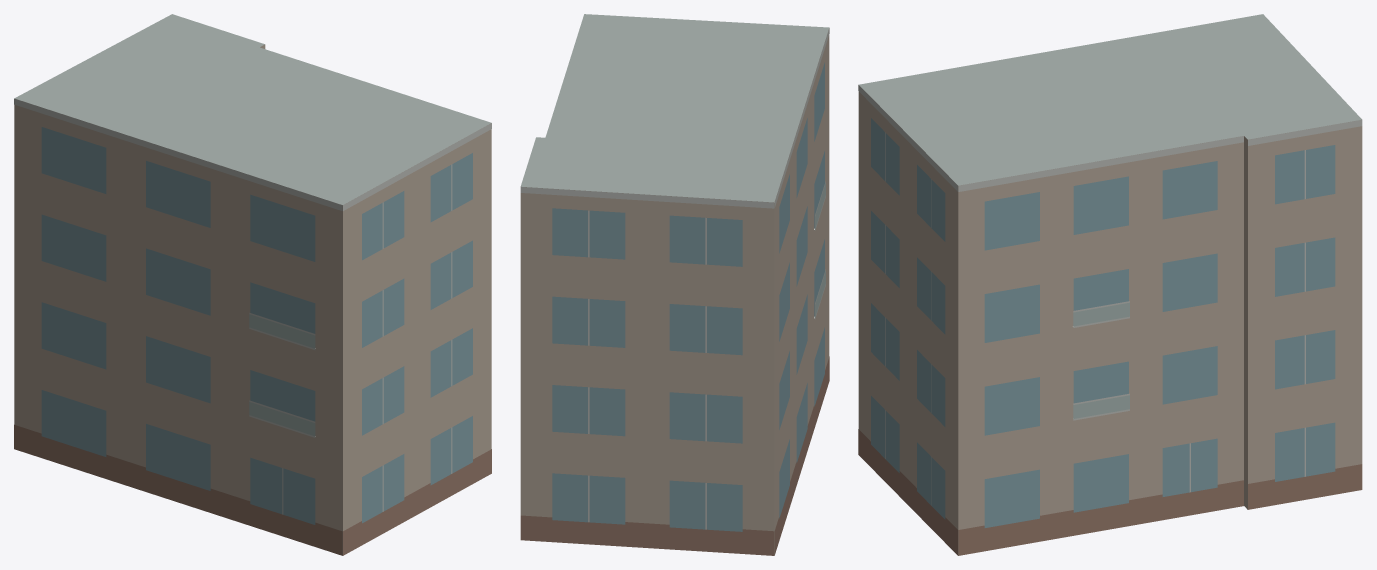
Rendered from survey-upis-32843270.glb.
3 renders of one model, left to right at view 1: azimuth 30°, elevation 25°; view 2: azimuth 150°, elevation 25°; view 3: azimuth 270°, elevation 25°, orthographic. The views are drawn at different scales.
Visible parts, largest first — view 1: survey-upis-32843270.tmp; view 2: survey-upis-32843270.tmp; view 3: survey-upis-32843270.tmp.
Boxes of the visible parts, bbox=[...] form: survey-upis-32843270.tmp: bbox=[14, 14, 491, 555]; survey-upis-32843270.tmp: bbox=[520, 14, 829, 555]; survey-upis-32843270.tmp: bbox=[858, 14, 1362, 555].
Size of the model in its own units: 13.93 by 14 by 17.27.
